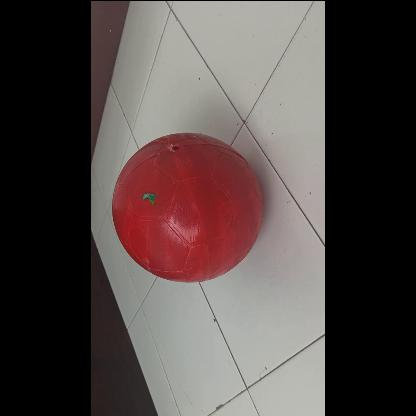red_ball: (112, 131, 262, 281)
